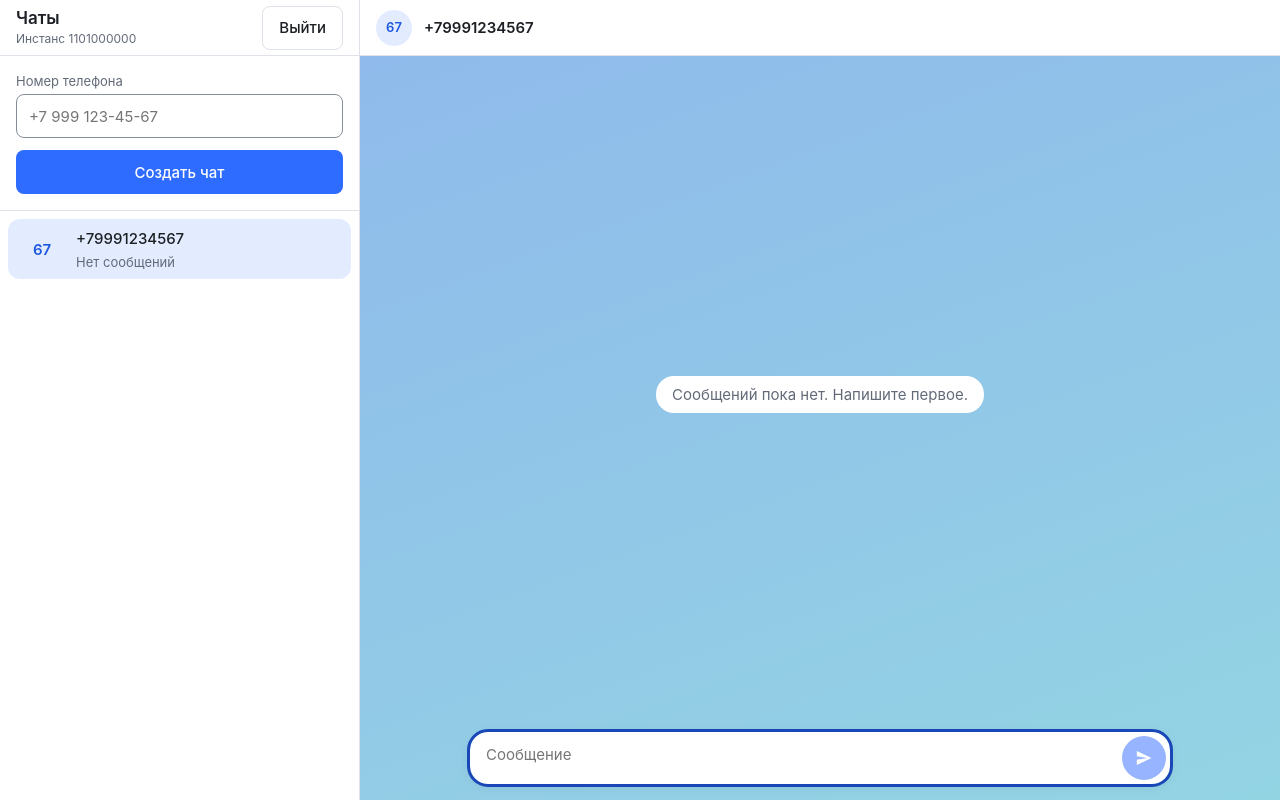
Test: ChatPage: фокус › нажатие «Отправить» → фокус остаётся в поле «Сообщение»
Type "Привет" into the text box labelled "Сообщение" at [794, 758], box [474,736,1114,780]
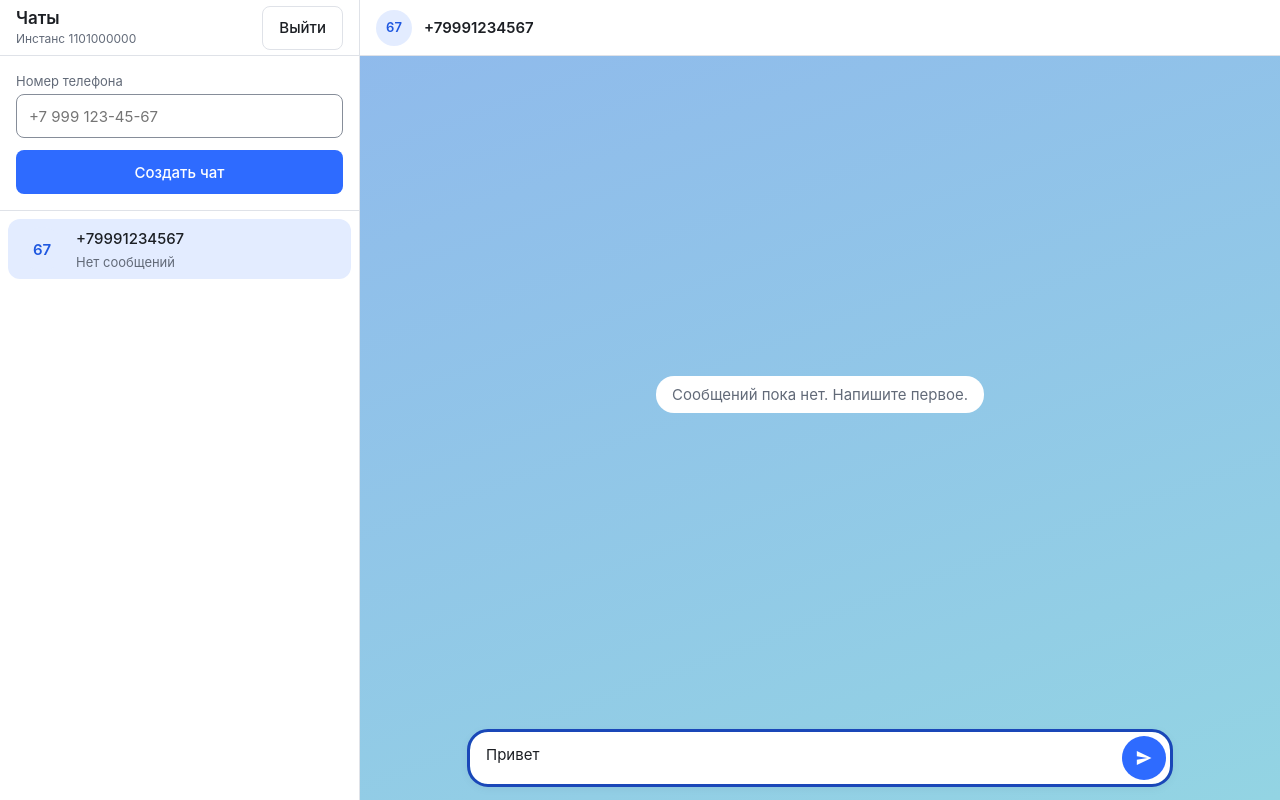
Click the button named "Отправить" at [1144, 758], box [1122,736,1166,780]
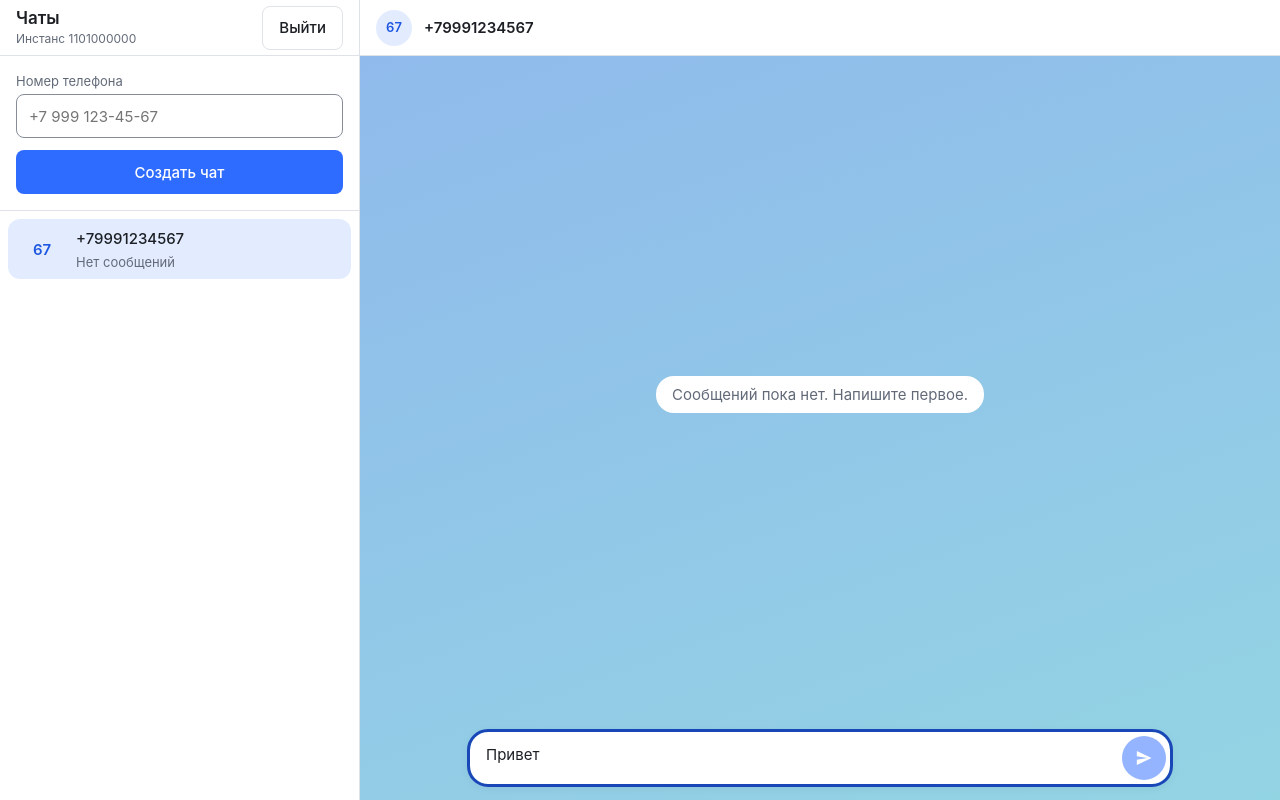
Check: the button named "Отправляем…" is disabled, box [1122,736,1166,780]
